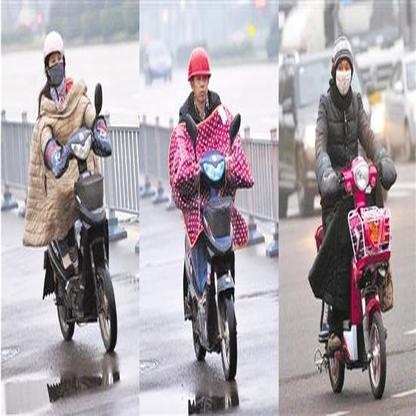target: (20, 27, 131, 358), (307, 33, 401, 401), (163, 46, 260, 383)
